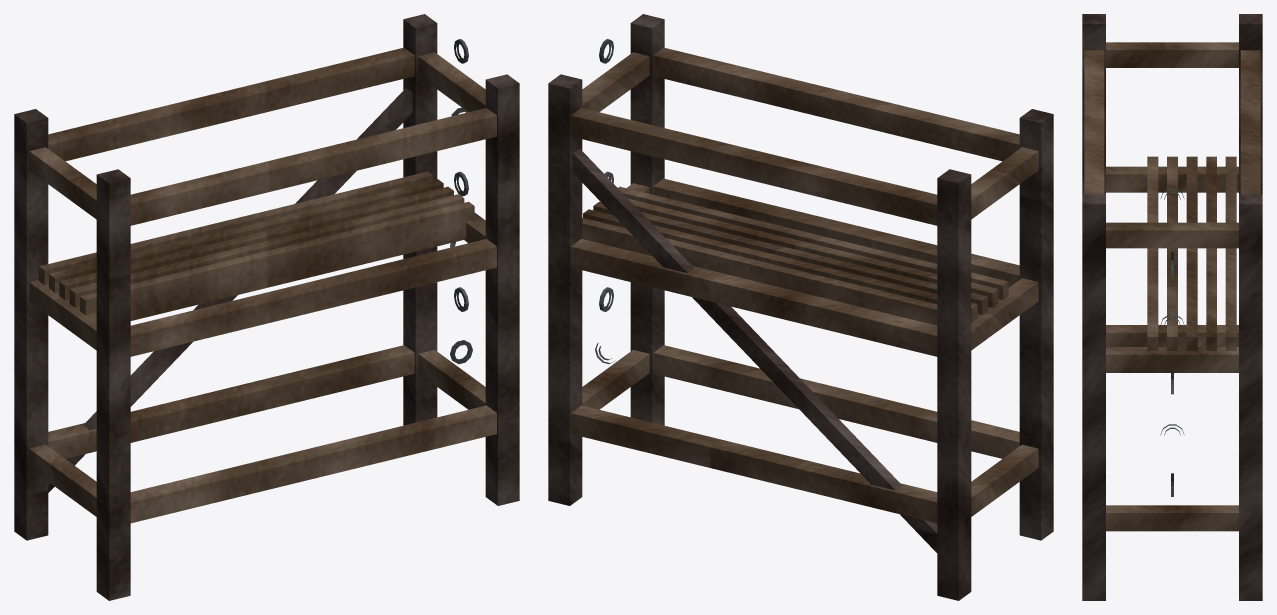
The model's file is 0446_scaffolding_21.glb.
3 views of the same model, side by side, from view 1: azimuth 30°, elevation 25°; view 2: azimuth 150°, elevation 25°; view 3: azimuth 270°, elevation 25° (orthographic). The views are drawn at different scales.
Parts seen in each view (by area): view 1: wood, wood_dark, iron; view 2: wood, wood_dark, iron; view 3: wood, wood_dark, iron.
Part boxes in pixels (bbox=[...]): wood: bbox=[29, 47, 496, 523]; wood_dark: bbox=[14, 14, 519, 600]; iron: bbox=[450, 39, 472, 363]; wood: bbox=[571, 47, 1038, 523]; wood_dark: bbox=[548, 14, 1053, 600]; iron: bbox=[595, 39, 615, 363]; wood: bbox=[1084, 42, 1260, 531]; wood_dark: bbox=[1082, 14, 1262, 600]; iron: bbox=[1160, 188, 1184, 496].
Bounding box in the file's own units: 2.47 × 2.46 × 0.988.
3 materials, 3 textured.
